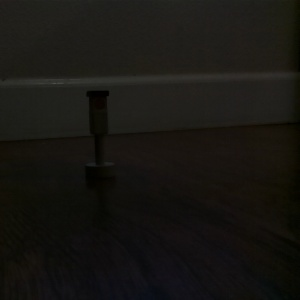traffic light red: (82, 87, 118, 180)
